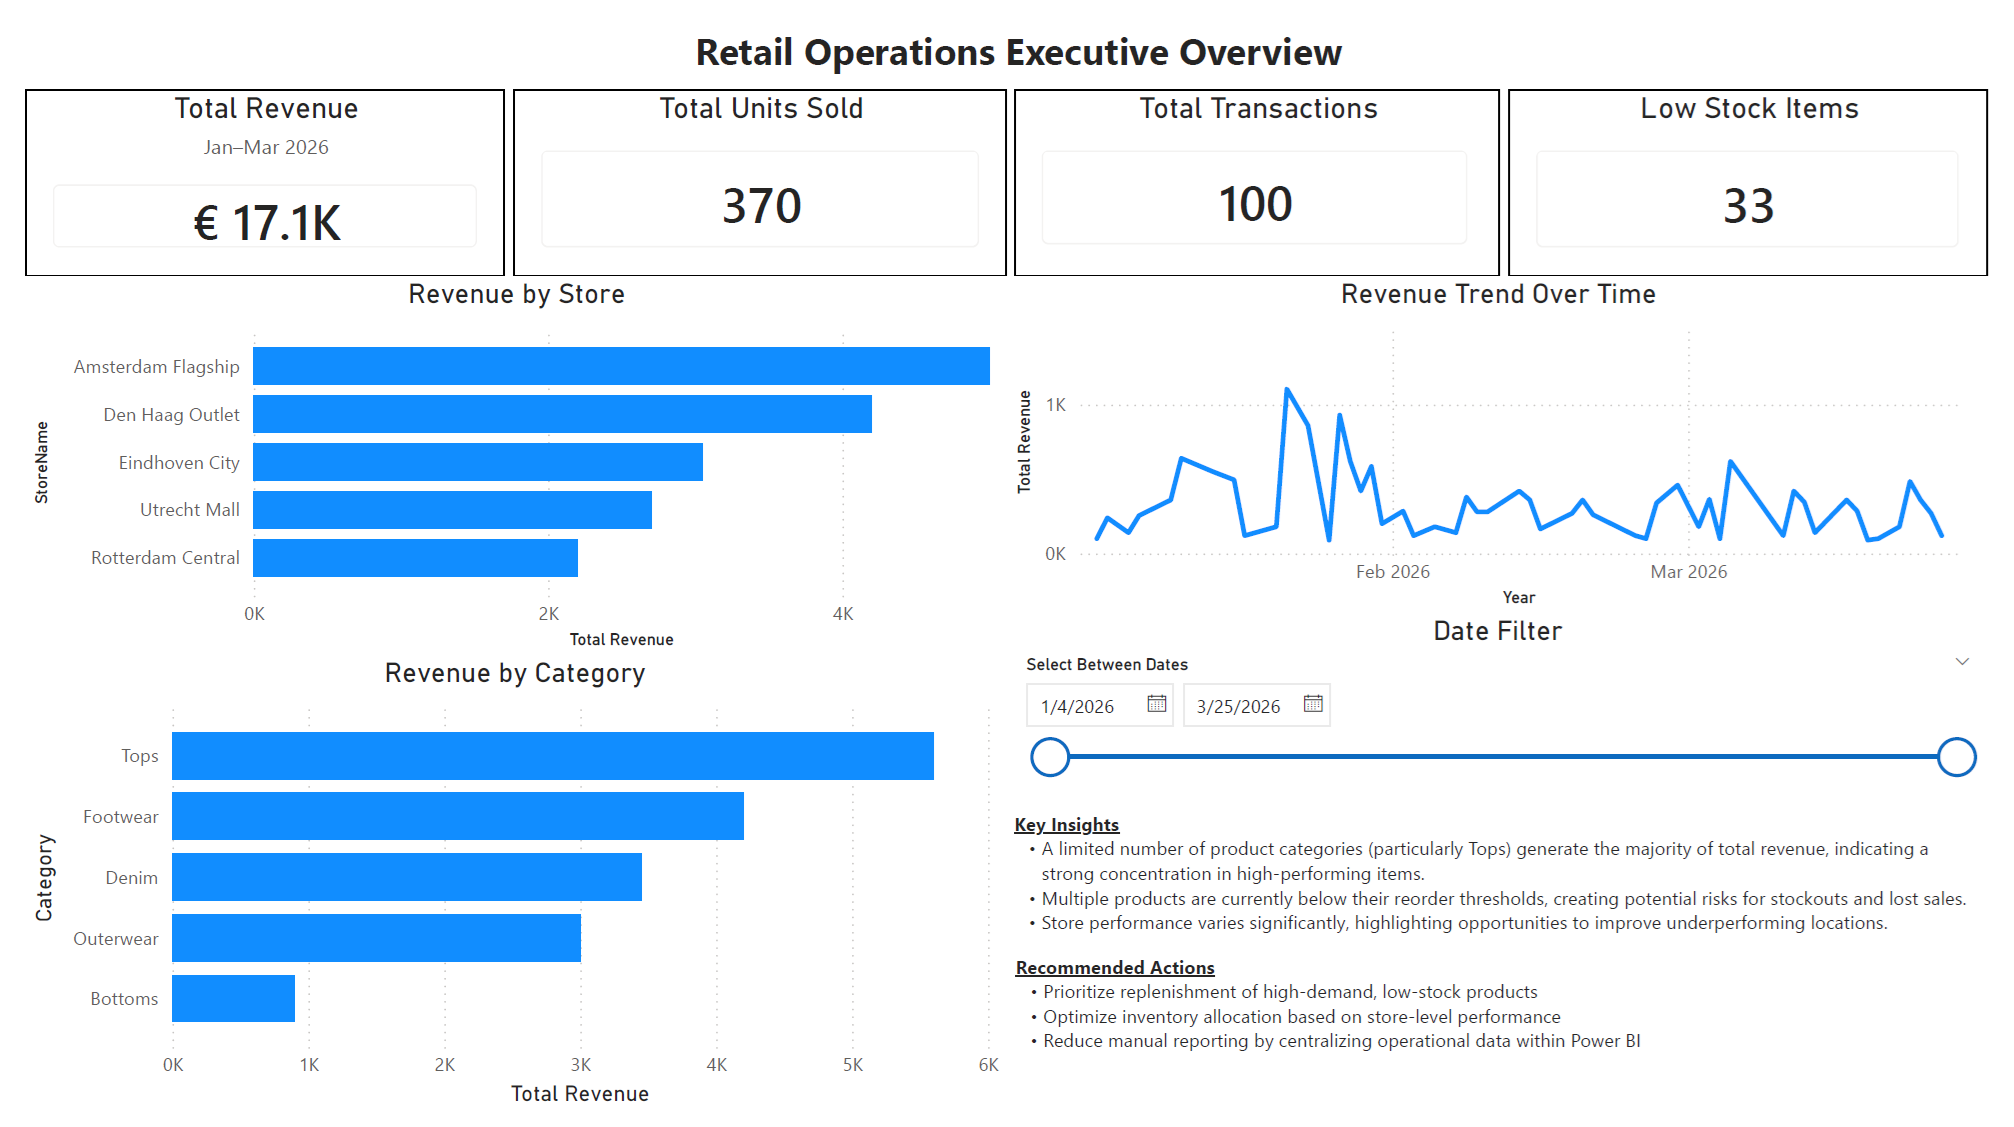

Layout of this report page (visuals, bound fields, positions):
{"tool":"powerbi","page":{"name":"Executive Overview","canvas":[1280,720],"ordinal":0},"visuals":[{"type":"cardVisual","title":"Total Revenue","fields":{"Data":["tblSales.Total Revenue"]},"box":[0.8,53.4,312,121.5],"z":0},{"type":"cardVisual","title":"Total Units Sold","fields":{"Data":["tblSales.Total Units Sold"]},"box":[318.6,53.4,321.1,121.5],"z":1000},{"type":"cardVisual","title":"Total Transactions","fields":{"Data":["tblSales.Total Transactions"]},"box":[645.4,53.4,315.3,121.5],"z":2000},{"type":"cardVisual","title":"Low Stock Items","fields":{"Data":["tblInventory.Low Stock Items"]},"box":[967.3,53.4,311.2,121.5],"z":3000},{"type":"clusteredBarChart","title":"Revenue by Store","fields":{"Category":["tblStores.StoreName"],"Y":["tblSales.Total Revenue"]},"box":[1,175,640,254],"z":4000},{"type":"barChart","title":"Revenue by Category","fields":{"Category":["tblSales.Category"],"Y":["tblSales.Total Revenue"]},"box":[0,429,640,291],"z":5000},{"type":"lineChart","title":"Revenue Trend Over Time","fields":{"Category":["tblSales.Date.Variation.Date Hierarchy.Year","tblSales.Date.Variation.Date Hierarchy.Quarter","tblSales.Date.Variation.Date Hierarchy.Month","tblSales.Date.Variation.Date Hierarchy.Day"],"Y":["tblSales.Total Revenue"]},"box":[640.6,174.6,639.6,220.7],"z":6000},{"type":"slicer","title":"Date Filter","fields":{"Values":["tblSales.Date"]},"box":[639.6,395.3,640.6,125.6],"z":7000},{"type":"textbox","box":[15.6,5.7,1264.6,41.9],"z":8000},{"type":"textbox","box":[639.7,517.3,638.9,92.8],"z":9000},{"type":"textbox","box":[641.3,610.1,638.9,95.3],"z":10000}]}

Visuals, with their boxes in screenshot pixels (x1, y1, x2, y2), scaled from the page's 1280x720 canvas onto the 2014x1127 screenshot:
"Total Revenue" cardVisual: 1, 84, 492, 274
"Total Units Sold" cardVisual: 501, 84, 1007, 274
"Total Transactions" cardVisual: 1015, 84, 1512, 274
"Low Stock Items" cardVisual: 1522, 84, 2012, 274
"Revenue by Store" clusteredBarChart: 2, 274, 1009, 672
"Revenue by Category" barChart: 0, 672, 1007, 1126
"Revenue Trend Over Time" lineChart: 1008, 273, 2013, 619
"Date Filter" slicer: 1006, 619, 2013, 815
textbox: 25, 9, 2013, 75
textbox: 1007, 810, 2012, 955
textbox: 1009, 955, 2013, 1104
